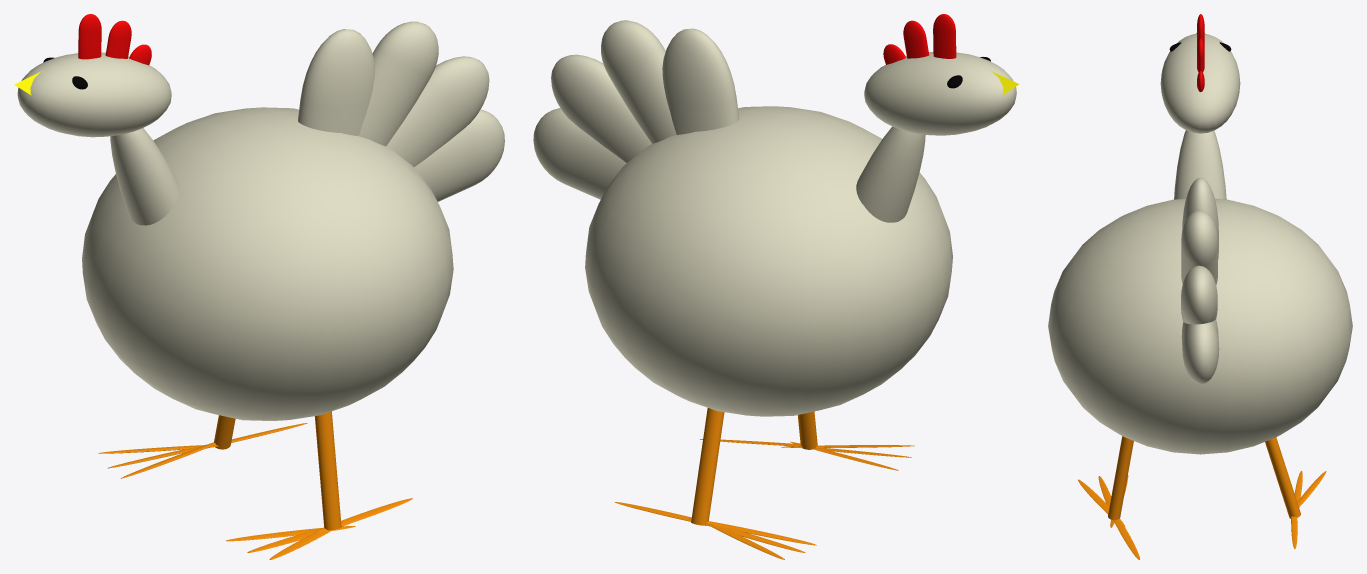
Rendered from Chicken_old.fbx.
The picture shows the model from 3 angles, left to right: view 1: azimuth 30°, elevation 25°; view 2: azimuth 150°, elevation 25°; view 3: azimuth 270°, elevation 25°; orthographic projection. The views are drawn at different scales.
Visible parts, largest first — view 1: Body, Head, TailFeather_1_, TailFeather_2_, TailFeather_0_, Neck, TailFeather__2_, LeftLeg, Comb_3_, Comb_1_; view 2: Body, Head, TailFeather_1_, TailFeather_2_, TailFeather_0_, TailFeather__2_, Neck, RightLeg, Comb_3_, Comb_1_, LeftLeg; view 3: Body, Head, Neck, TailFeather_0_, TailFeather__2_, TailFeather_2_, TailFeather_1_, LeftLeg, RightLeg.
Boxes of the visible parts, x1,y1,x2,y2 form: Body: [82, 107, 453, 420]; Head: [17, 52, 171, 137]; TailFeather_1_: [298, 29, 375, 136]; TailFeather_2_: [386, 56, 489, 166]; TailFeather_0_: [359, 21, 438, 146]; Neck: [110, 128, 179, 225]; TailFeather__2_: [414, 109, 504, 201]; LeftLeg: [315, 411, 341, 530]; Comb_3_: [78, 14, 101, 59]; Comb_1_: [105, 20, 131, 58]; Body: [585, 106, 952, 416]; Head: [864, 52, 1016, 135]; TailFeather_1_: [662, 28, 739, 134]; TailFeather_2_: [551, 54, 651, 162]; TailFeather_0_: [601, 20, 676, 143]; TailFeather__2_: [533, 108, 626, 199]; Neck: [856, 126, 925, 222]; RightLeg: [691, 408, 724, 525]; Comb_3_: [933, 14, 956, 58]; Comb_1_: [903, 20, 929, 58]; LeftLeg: [797, 411, 817, 449]; Body: [1048, 198, 1352, 454]; Head: [1160, 33, 1240, 133]; Neck: [1174, 130, 1226, 199]; TailFeather_0_: [1181, 210, 1217, 284]; TailFeather__2_: [1181, 319, 1219, 384]; TailFeather_2_: [1181, 265, 1217, 324]; TailFeather_1_: [1182, 178, 1218, 259]; LeftLeg: [1108, 436, 1133, 520]; RightLeg: [1265, 437, 1300, 518].
Bounding box in the file's own units: 152 × 156 × 100.
